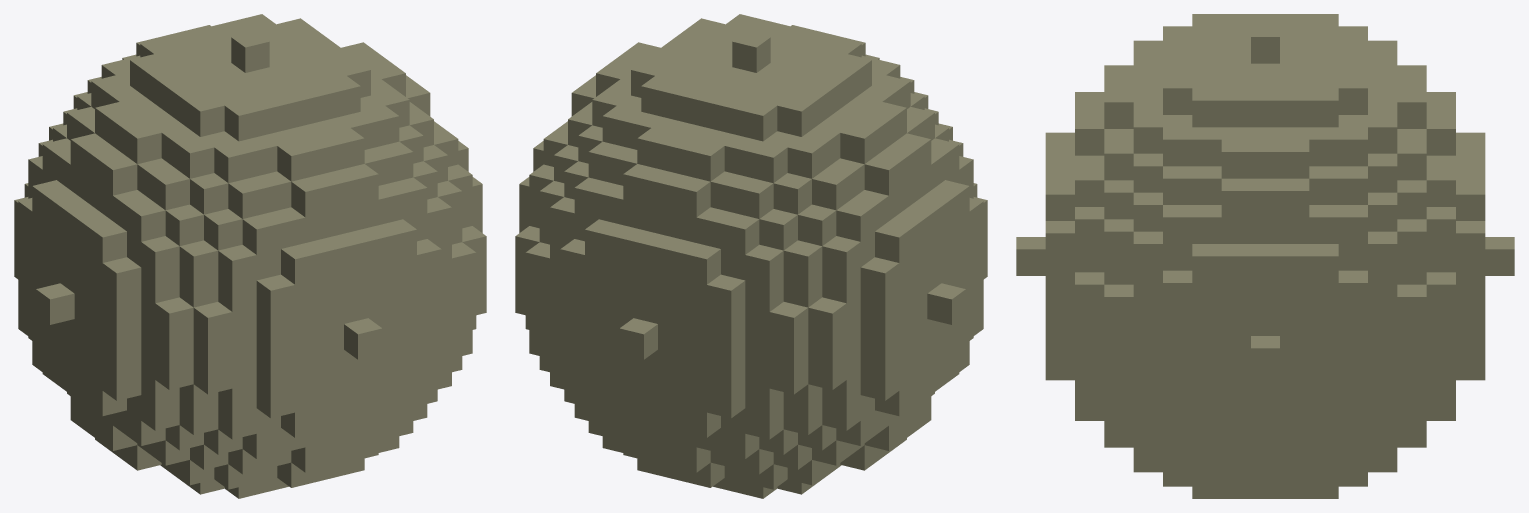
The model's file is fitness-07.glb.
3 renders of one model, left to right at view 1: azimuth 30°, elevation 25°; view 2: azimuth 150°, elevation 25°; view 3: azimuth 270°, elevation 25°, orthographic. The views are drawn at different scales.
Visible parts, largest first — view 1: Balance ball; view 2: Balance ball; view 3: Balance ball.
Boxes of the visible parts, <box> form: Balance ball: <box>14,14,486,498</box>; Balance ball: <box>515,14,987,498</box>; Balance ball: <box>1016,14,1514,498</box>.
Size of the model in its own units: 1.36 by 1.36 by 1.36.
